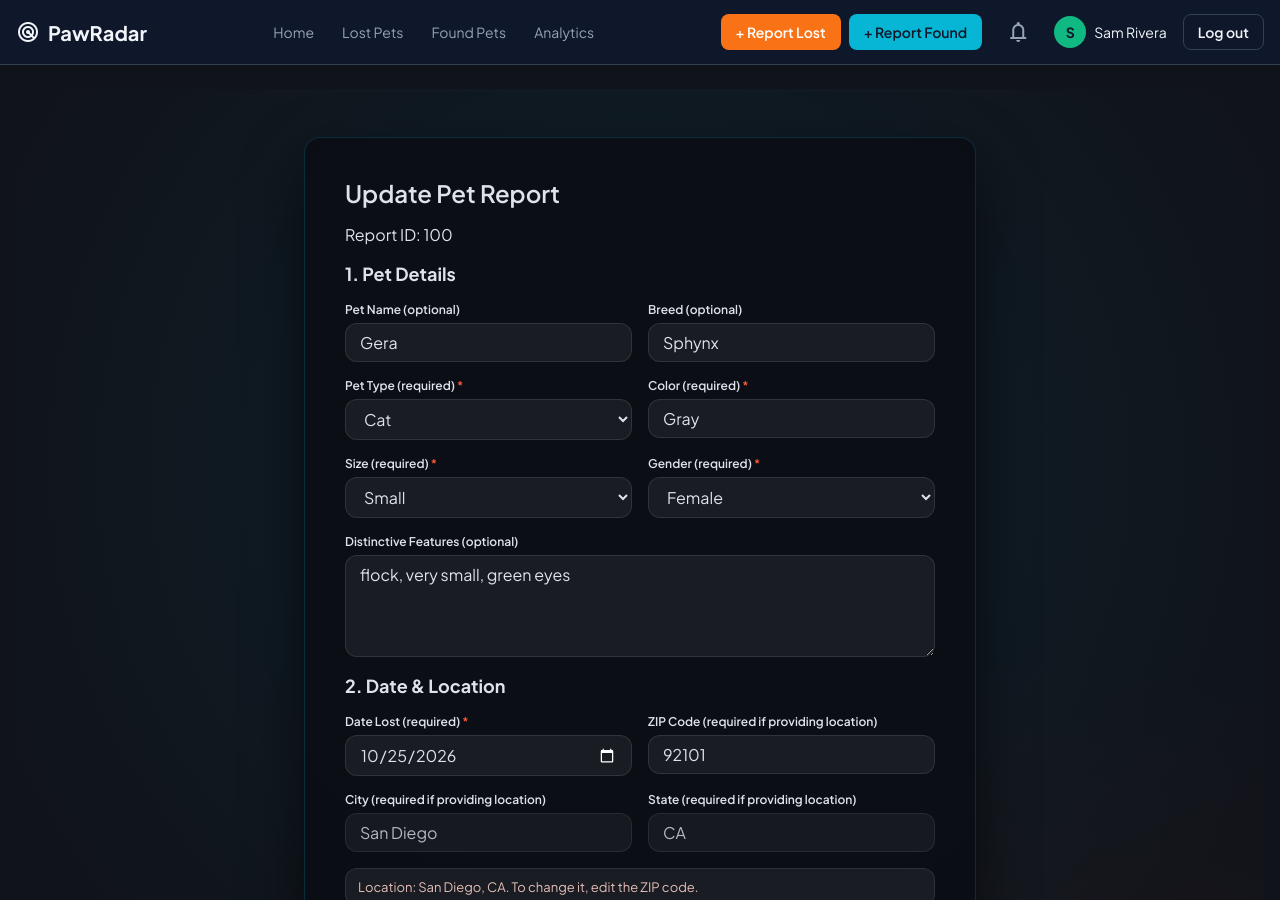
Test: UpdateReportPage › never sends the status when saving a ACTIVE report
Replace the text in the field labelled "Pet Name (optional)" with "Chucha" at (488, 343), box [345,323,632,362]
(page scrolled)
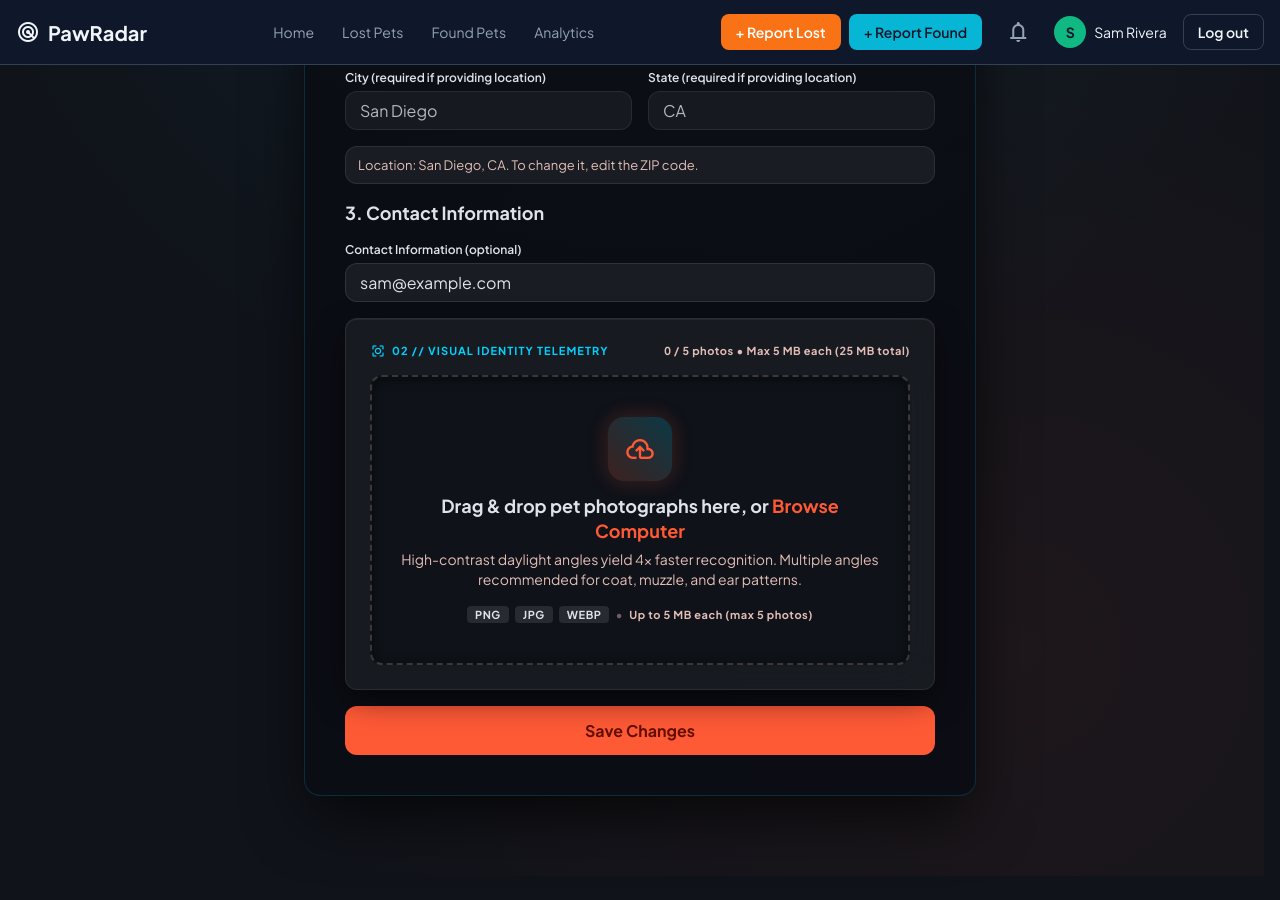
Click the button "Save Changes" at (640, 730), box [345,706,935,754]
(page scrolled)
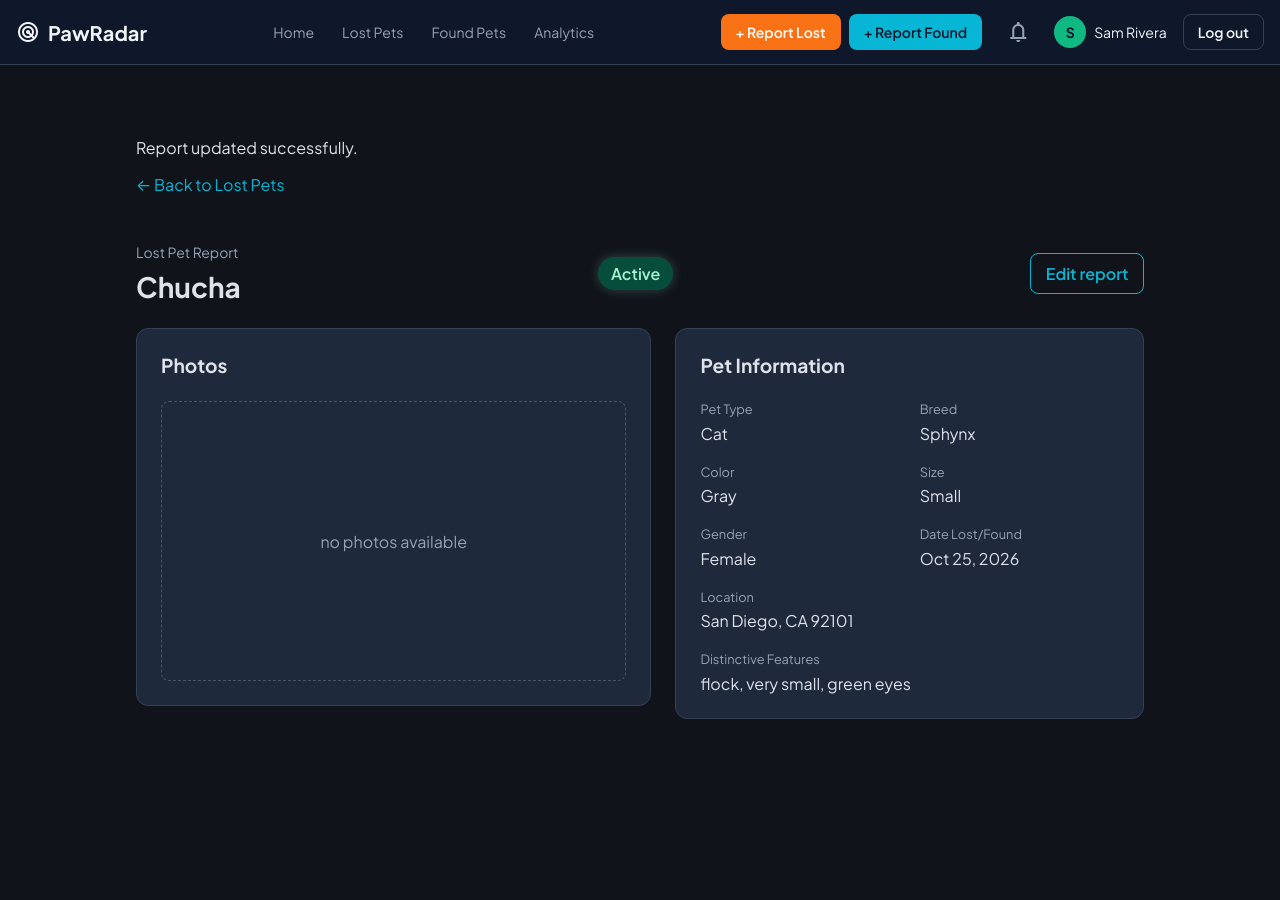
Now the heading "Chucha" is shown, box [136,269,241,304]
Now the message reads "Report updated successfully.", box [136,137,358,158]
